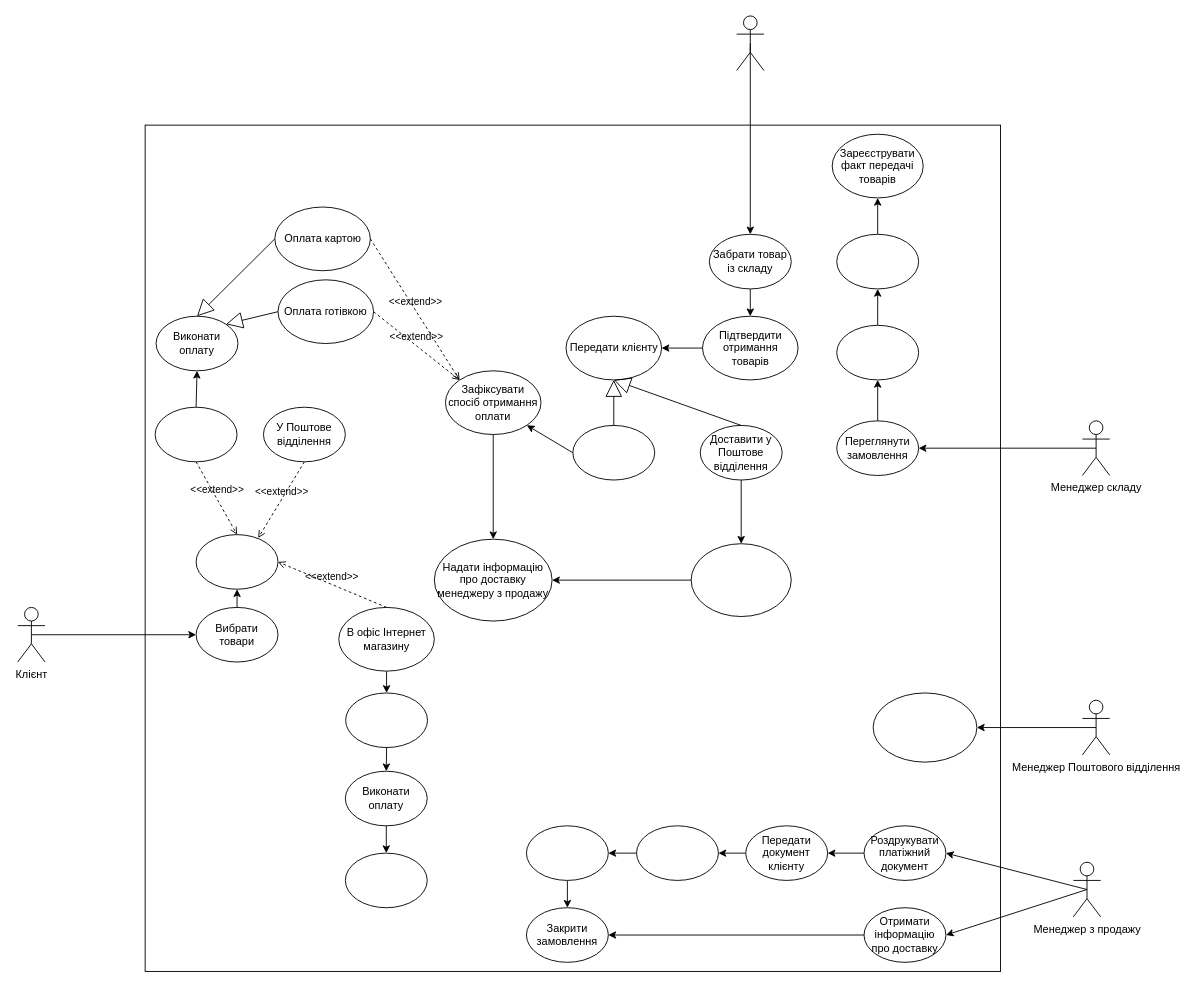
Image size: 1196x987. Some labels were removed from this diagram. The shapes that lost their labels are listed below. From the top down, each one's centre as x and y in pixels, then its label:
At point 750,43: "Менеджер по доставці".
At point 877,261: "Передати менеджеру по доставці".
At point 877,352: "Підготувати товар".
At point 195,434: "На адресу".
At point 613,452: "Доставити на адресу".
At point 236,561: "Вибрати спосіб доставки".
At point 740,580: "Зафіксувати номер документу підтвердження".
At point 386,720: "Отримати платіжний документ".
At point 924,727: "Підтвердити отримання товару документом".
At point 567,852: "Передати товар".
At point 677,852: "Перевірити оплату".
At point 385,880: "Отримати товар".
